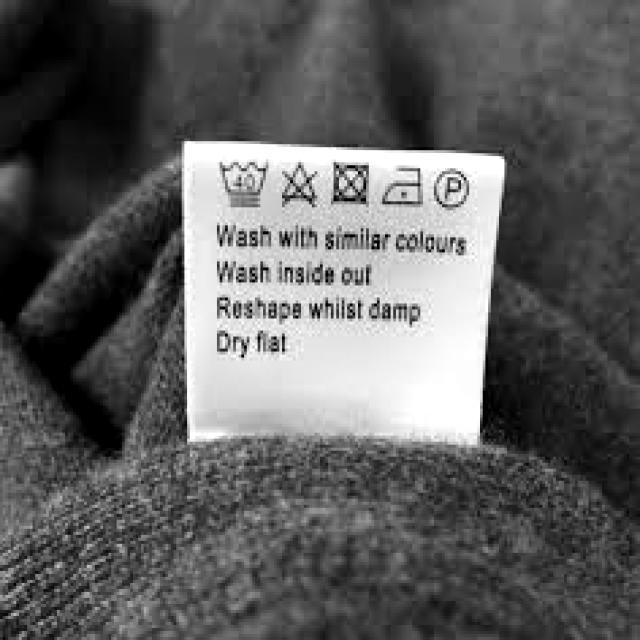40C: (219, 155, 274, 211)
DN_bleach: (277, 158, 322, 210)
DN_tumble_dry: (329, 158, 373, 211)
dry_clean_any_solvent_except_trichloroethylene: (430, 166, 475, 212)
iron_low: (382, 160, 425, 210)
